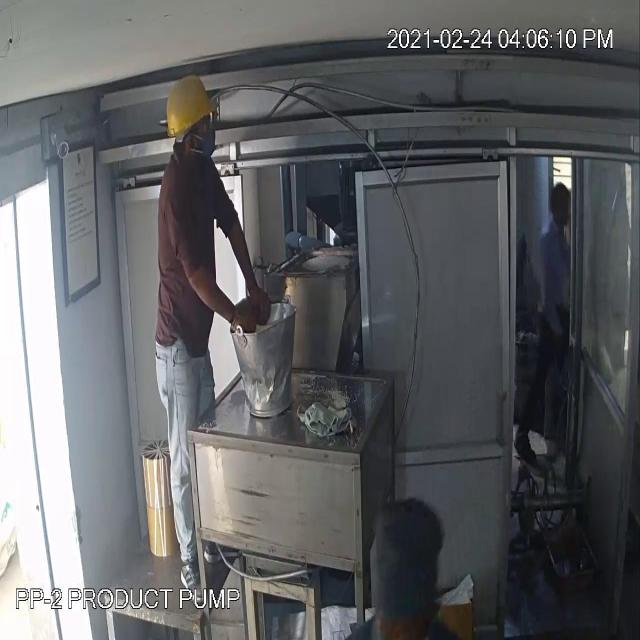helmet: (164, 71, 220, 139)
